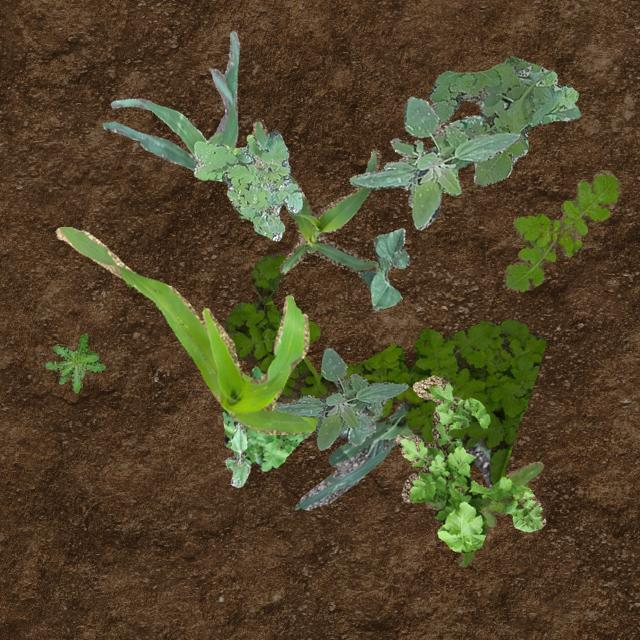crop: (54, 226, 318, 434), (294, 402, 492, 508), (250, 119, 380, 274), (102, 30, 238, 170), (274, 346, 408, 448), (356, 226, 408, 308), (230, 422, 250, 486)
weed: (222, 252, 544, 484), (394, 374, 544, 552), (348, 95, 520, 228), (426, 54, 578, 186), (504, 168, 620, 292), (423, 460, 542, 566), (194, 130, 300, 240), (222, 364, 312, 470), (390, 114, 484, 206), (44, 332, 104, 392)
